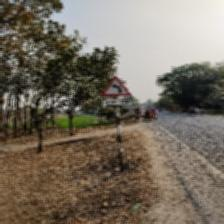Left-Turn: (94, 69, 142, 121)
